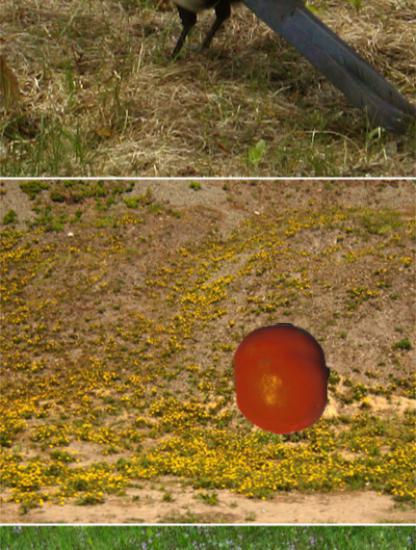Clementine: (226, 323, 338, 435)
